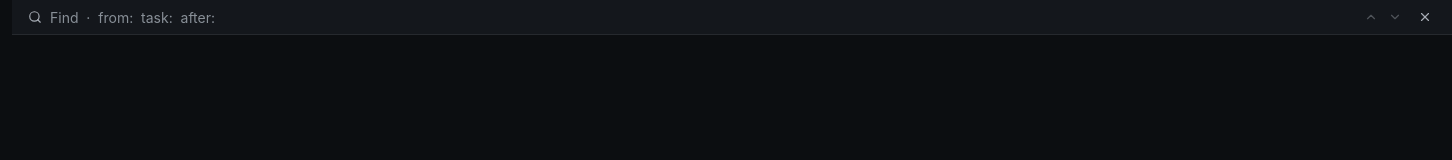
Scenario: <FindBar /> hints › completes a field name with Tab, then offers that field's values
Step 1. Type "fr" into the field named "Find in the channel" → coordinates (697, 17), box [50, 6, 1344, 28]
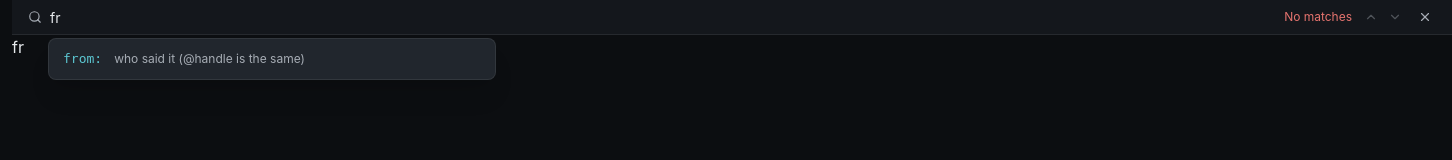
expect the button "from: who said it (@handle is the same)" is shown: met, box [53, 43, 491, 74]
Step 2. Press Tab
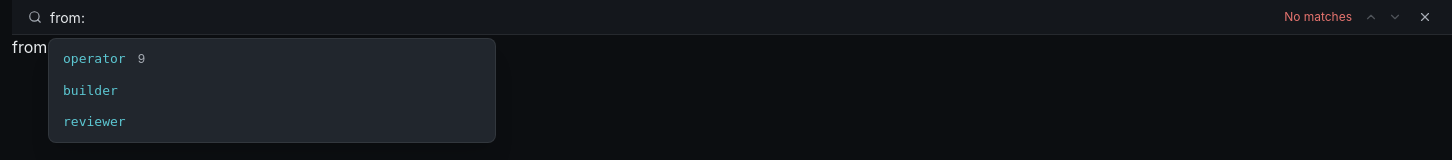
expect the text with test id "query" reads "from:": met, box [12, 37, 52, 57]
expect the button "operator 9" is shown: met, box [53, 43, 491, 74]
expect the button "builder" is shown: met, box [53, 74, 491, 106]
Step 3. Press Tab
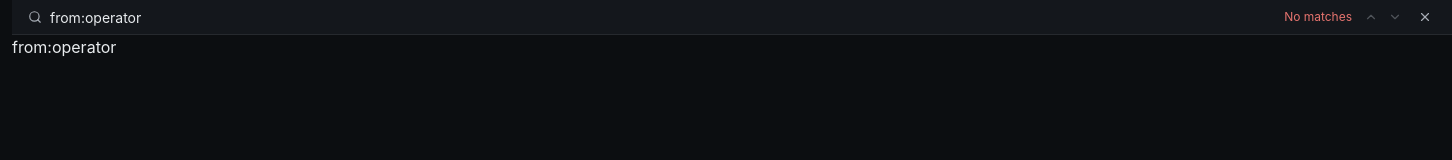
expect the text with test id "query" reads "from:operator": met, box [12, 37, 116, 57]
